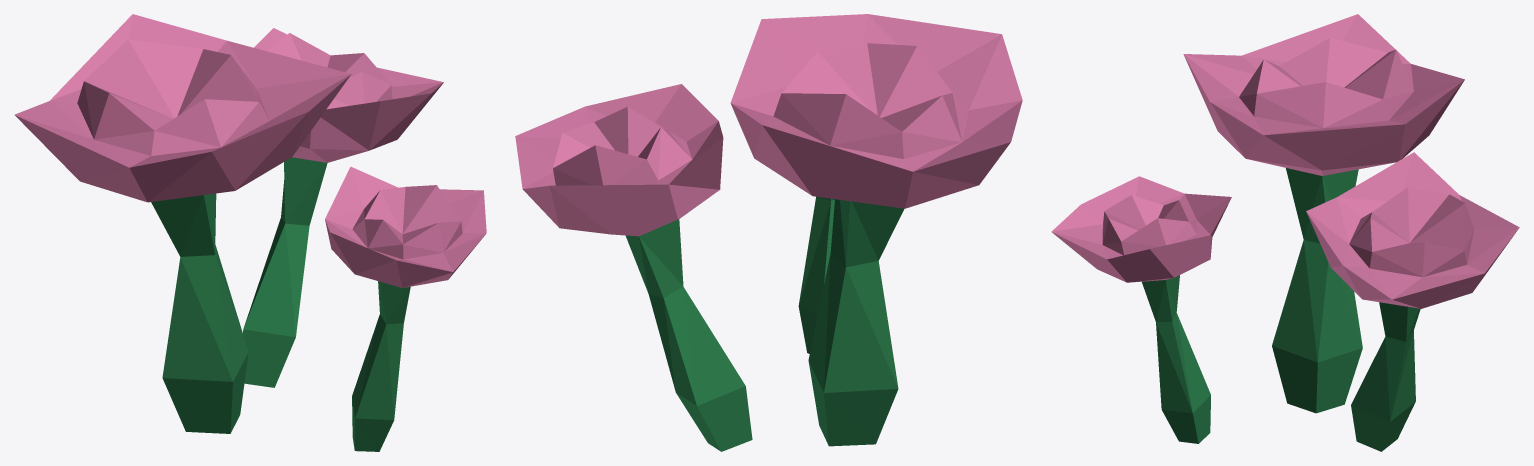
File: SM_Env_Flower_03-optimized.glb
The picture shows the model from 3 angles, left to right: view 1: azimuth 30°, elevation 25°; view 2: azimuth 150°, elevation 25°; view 3: azimuth 270°, elevation 25°; orthographic projection. The views are drawn at different scales.
Parts seen in each view (by area): view 1: SM_Env_Flower_03; view 2: SM_Env_Flower_03; view 3: SM_Env_Flower_03.
Part boxes in pixels (x1=…): SM_Env_Flower_03: x1=14, y1=14, x2=486, y2=451; SM_Env_Flower_03: x1=515, y1=14, x2=1022, y2=451; SM_Env_Flower_03: x1=1051, y1=14, x2=1519, y2=451.
Size of the model in its own units: 4.93 by 3.87 by 4.83.
1 material, 1 textured.
